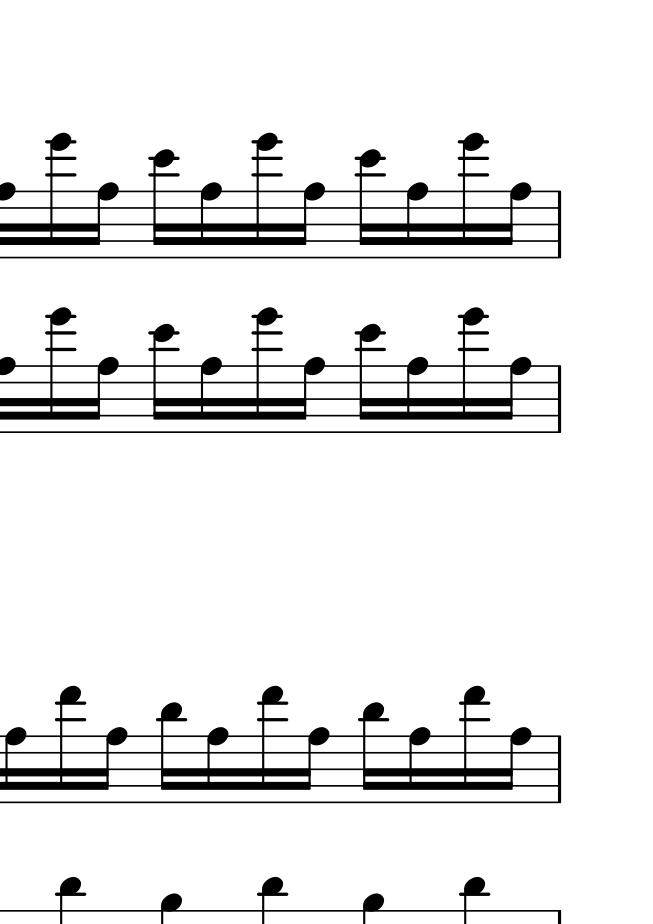16_11: (360, 702, 388, 805), (157, 701, 184, 804)
16_12: (149, 324, 179, 438), (355, 149, 386, 259), (356, 323, 386, 435)
16_13: (55, 686, 87, 806), (256, 686, 286, 807), (460, 685, 489, 806)
16_14: (44, 307, 76, 437), (251, 131, 281, 261), (462, 306, 491, 436), (457, 132, 486, 262), (253, 307, 281, 436), (46, 132, 74, 259), (149, 149, 179, 262)
16_8: (89, 355, 120, 436), (503, 181, 533, 261), (98, 726, 128, 806), (300, 725, 330, 805), (90, 182, 120, 261), (296, 181, 326, 258), (406, 726, 434, 806), (504, 725, 532, 805), (294, 357, 323, 433), (506, 355, 533, 433), (198, 355, 224, 435), (404, 182, 430, 261), (3, 725, 28, 805), (205, 726, 229, 805), (406, 356, 430, 434), (200, 182, 223, 261)
Single_barline: (549, 735, 572, 803), (549, 189, 568, 260), (547, 365, 567, 432)
